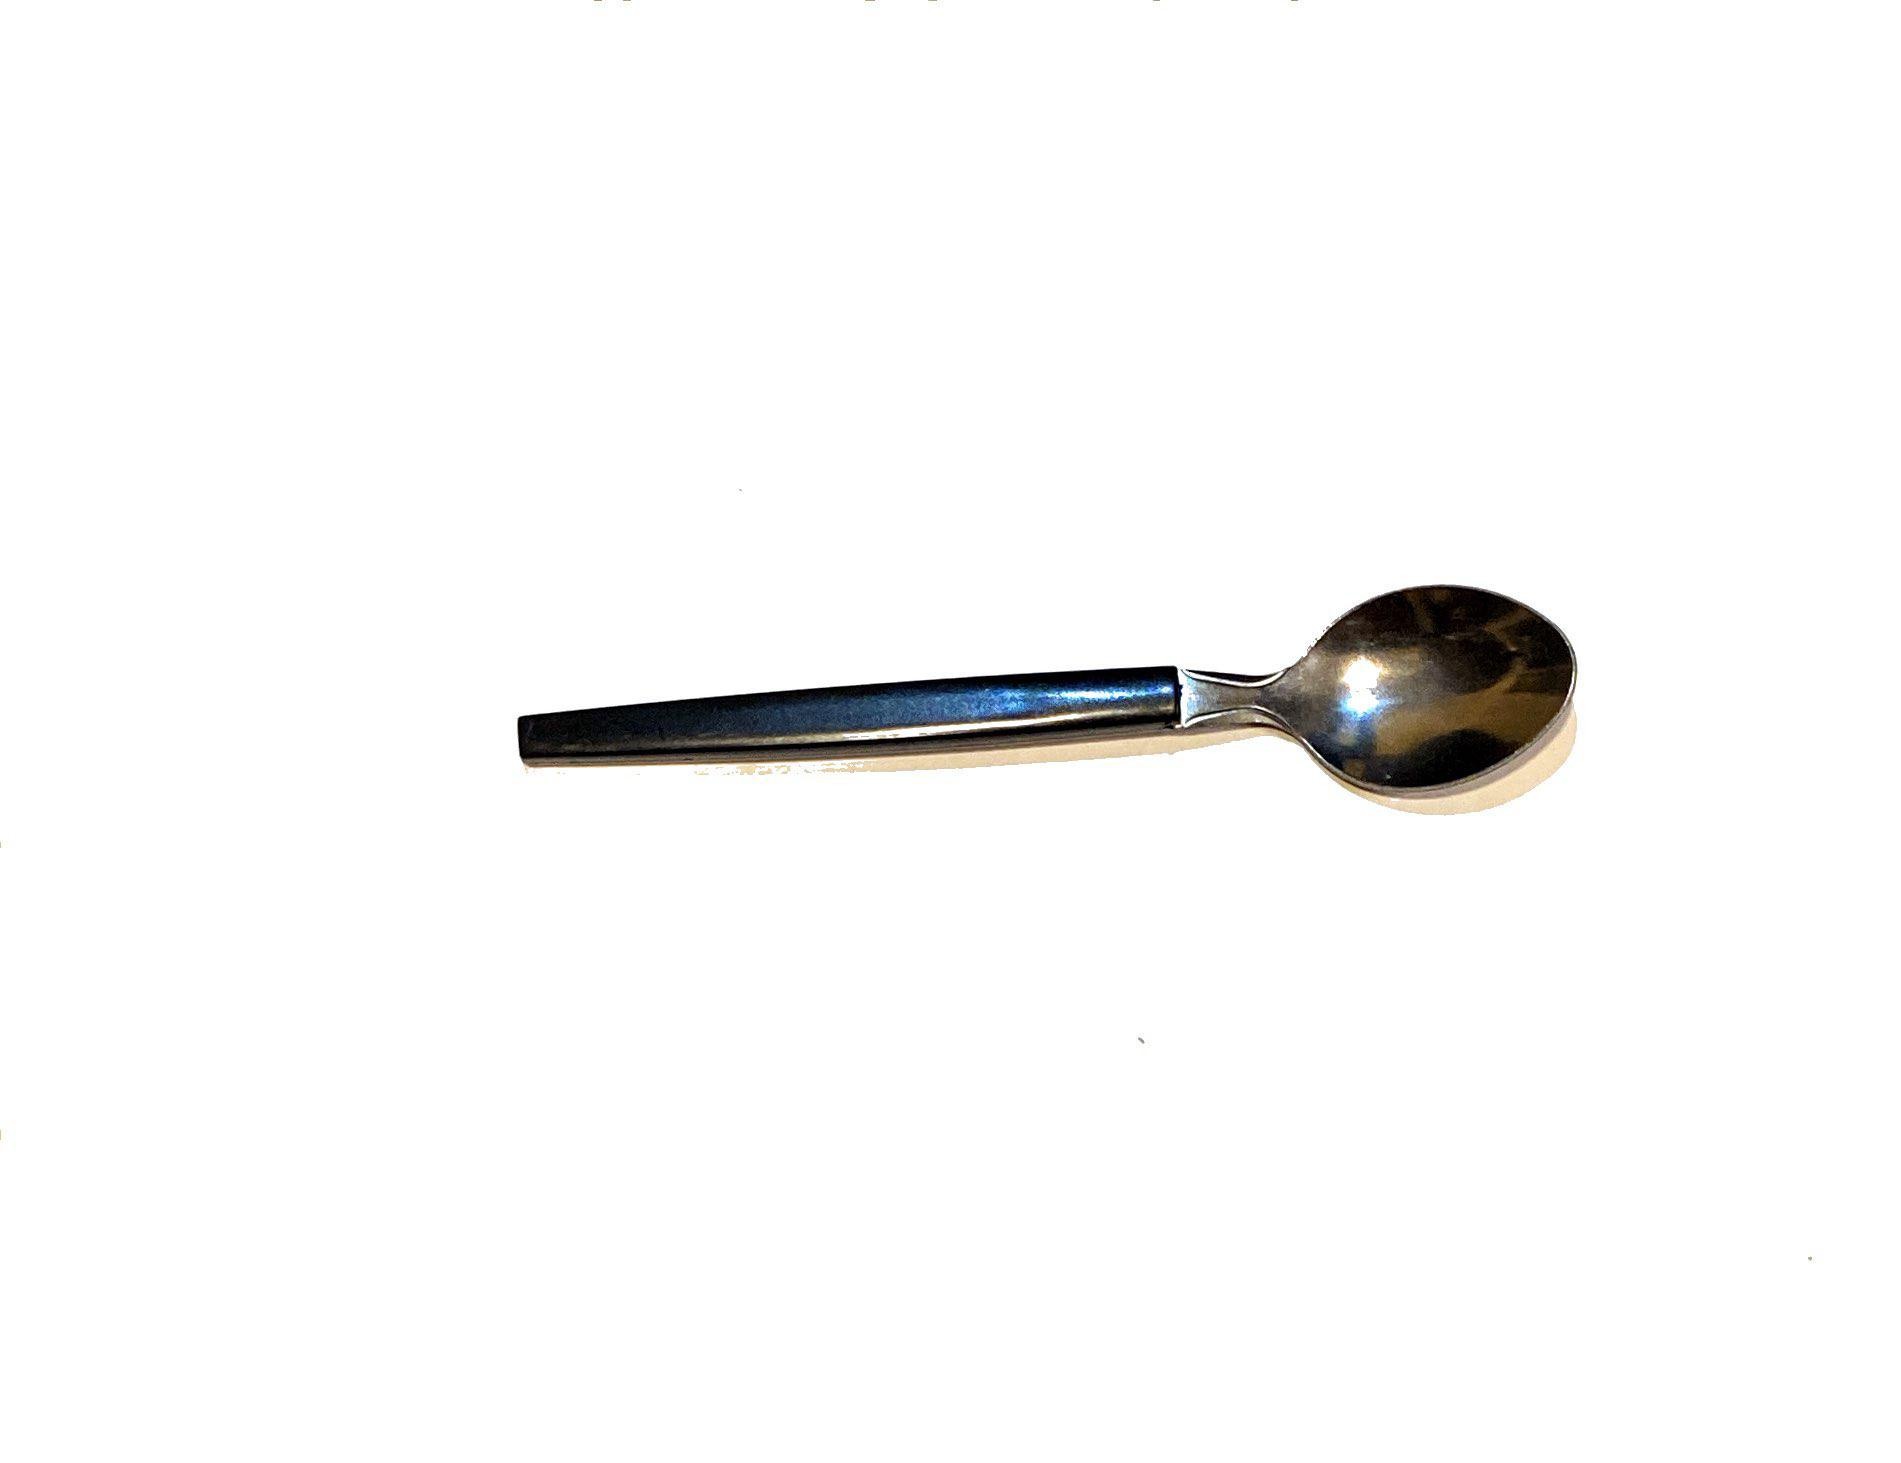Spoon: (429, 510, 1737, 931)
